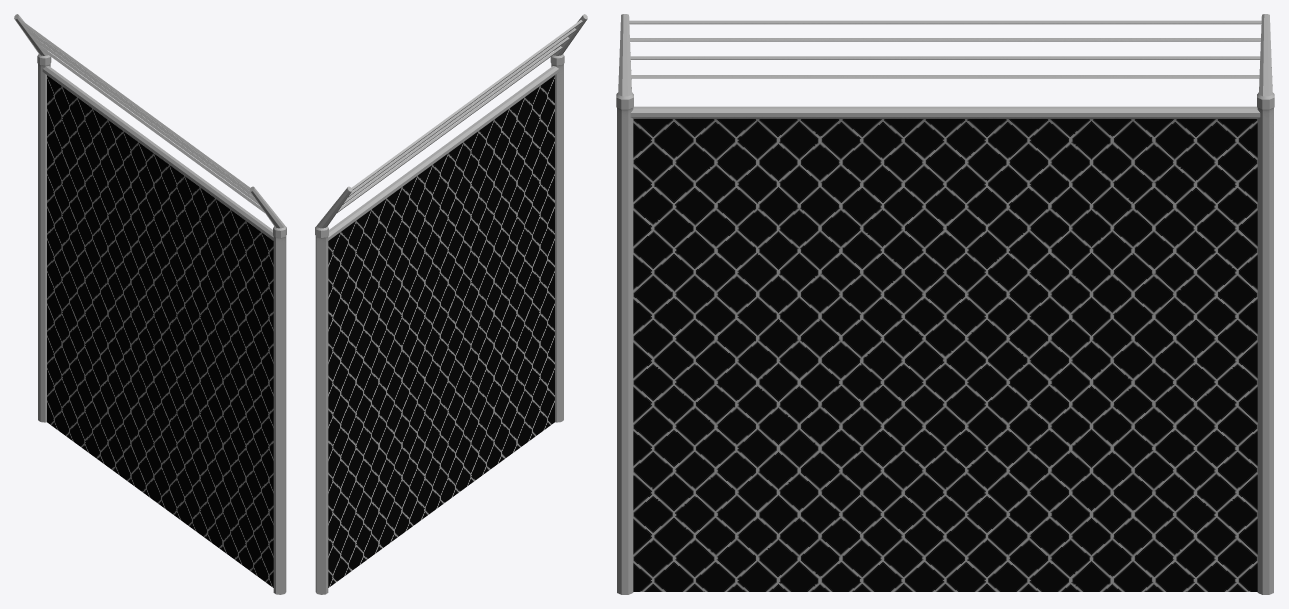
Rendered from Fence.fbx.
3 views of the same model, side by side, from view 1: azimuth 30°, elevation 25°; view 2: azimuth 150°, elevation 25°; view 3: azimuth 270°, elevation 25° (orthographic). The views are drawn at different scales.
Visible parts, largest first — view 1: Middle_Fene, Left_Pole, Barbed_Wire, Right_Pole, Left_Post; view 2: Middle_Fene, Right_Pole, Barbed_Wire, Left_Pole, Right_Post; view 3: Middle_Fene, Barbed_Wire, Left_Pole, Right_Pole, Left_Post, Right_Post.
Part boxes in pixels (bbox=[...]): Middle_Fene: bbox=[42, 66, 273, 587]; Left_Pole: bbox=[273, 226, 286, 594]; Barbed_Wire: bbox=[19, 20, 264, 212]; Right_Pole: bbox=[37, 54, 51, 422]; Left_Post: bbox=[249, 186, 284, 228]; Middle_Fene: bbox=[328, 66, 559, 587]; Right_Pole: bbox=[315, 226, 328, 594]; Barbed_Wire: bbox=[337, 20, 582, 212]; Left_Pole: bbox=[550, 54, 564, 422]; Right_Post: bbox=[317, 186, 352, 228]; Middle_Fene: bbox=[630, 106, 1260, 591]; Barbed_Wire: bbox=[629, 20, 1261, 78]; Left_Pole: bbox=[616, 92, 633, 594]; Right_Pole: bbox=[1257, 92, 1274, 594]; Left_Post: bbox=[618, 14, 631, 96]; Right_Post: bbox=[1259, 14, 1272, 96].
Bounding box in the file's own units: 1.11 × 12.36 × 13.17.
